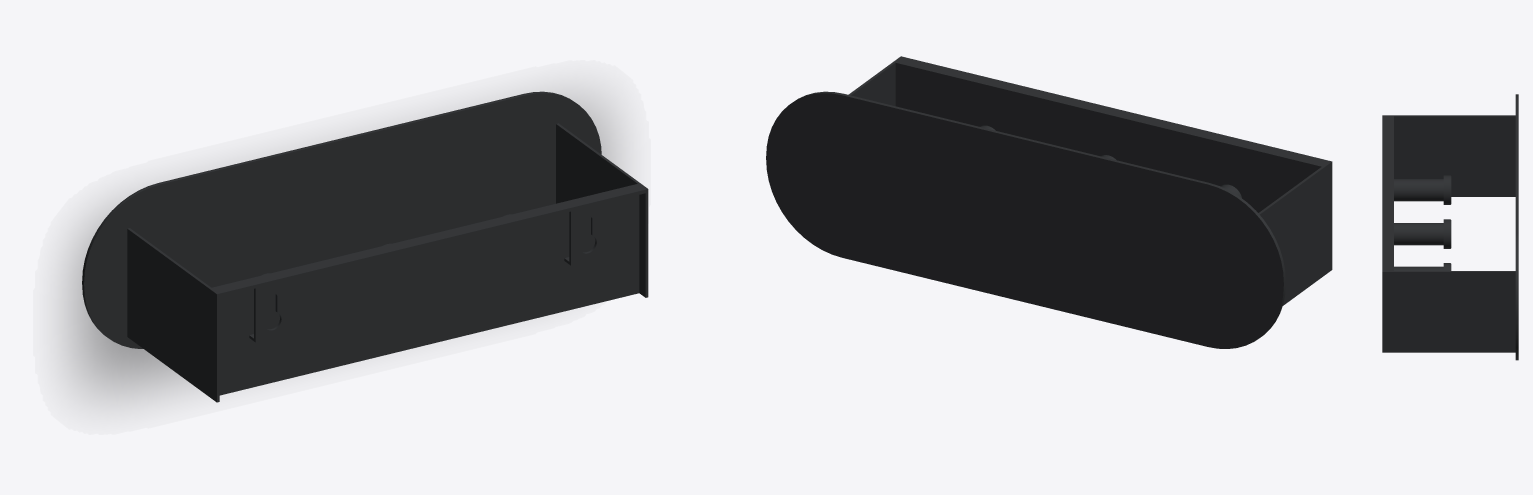
Rendered from round-hook.2b4d464085.ar.glb.
The picture shows the model from 3 angles, left to right: view 1: azimuth 30°, elevation 25°; view 2: azimuth 150°, elevation 25°; view 3: azimuth 270°, elevation 25°; orthographic projection. The views are drawn at different scales.
Parts seen in each view (by area): view 1: NAUO1, object 2; view 2: NAUO1; view 3: NAUO1.
Boxes of the visible parts, bbox=[...] form: NAUO1: bbox=[82, 91, 648, 402]; object 2: bbox=[67, 98, 616, 396]; NAUO1: bbox=[766, 56, 1332, 348]; NAUO1: bbox=[1382, 94, 1518, 360].
Size of the model in its own units: 0.38 by 0.17 by 0.092.
Materials: 2 (1 with a texture image).
